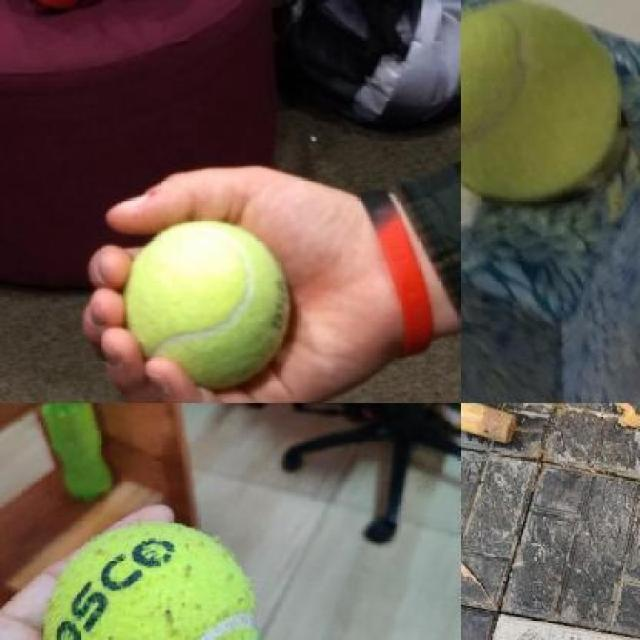-: (121, 211, 284, 386)
